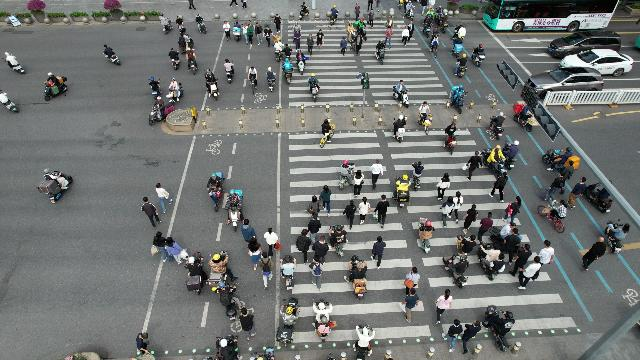non-motor-vehicle: (482, 298, 516, 354), (308, 299, 337, 347), (477, 240, 508, 284), (346, 253, 374, 301), (351, 316, 381, 360), (278, 296, 302, 348), (40, 170, 76, 202), (540, 199, 572, 233), (544, 147, 580, 177), (210, 282, 240, 318), (440, 252, 468, 290), (183, 252, 207, 296), (208, 252, 240, 284), (280, 253, 302, 294), (590, 180, 616, 212), (414, 100, 436, 136), (44, 72, 70, 102), (514, 102, 538, 134), (608, 221, 632, 249), (483, 147, 507, 175), (501, 142, 523, 172), (418, 218, 436, 253), (490, 220, 524, 238), (447, 85, 467, 114), (338, 155, 354, 191), (100, 43, 124, 67), (166, 76, 186, 103), (217, 334, 241, 356), (333, 224, 349, 256), (392, 81, 410, 109), (176, 31, 197, 53), (489, 115, 507, 140), (295, 48, 311, 76), (456, 235, 476, 257), (147, 102, 165, 126), (353, 18, 371, 42), (391, 116, 407, 142), (320, 118, 336, 144), (394, 175, 410, 201), (264, 66, 280, 92), (447, 32, 463, 57), (155, 14, 173, 36), (194, 12, 212, 34), (247, 66, 260, 96), (136, 332, 152, 356), (208, 172, 226, 192), (227, 190, 245, 210), (272, 35, 284, 62), (456, 54, 469, 78), (308, 75, 320, 99), (412, 160, 426, 180), (222, 61, 234, 84), (474, 45, 486, 67), (377, 41, 388, 65), (298, 1, 312, 19), (404, 0, 416, 20), (232, 20, 242, 44), (456, 23, 468, 41), (208, 82, 220, 99), (448, 136, 458, 156), (284, 64, 294, 84), (440, 14, 450, 34), (445, 125, 459, 139), (327, 7, 337, 25), (434, 5, 444, 23), (288, 22, 308, 31), (148, 78, 160, 92), (430, 34, 440, 50), (346, 22, 354, 42), (266, 346, 276, 360), (426, 8, 434, 25), (426, 16, 432, 36), (188, 64, 198, 74)
person: (584, 229, 608, 280), (518, 254, 542, 292), (235, 302, 261, 336), (138, 194, 162, 230), (147, 229, 169, 263), (464, 316, 482, 356), (262, 227, 282, 260), (320, 183, 338, 217), (374, 195, 391, 231), (444, 317, 461, 351), (463, 154, 485, 180), (462, 202, 480, 233), (371, 236, 389, 266), (296, 226, 310, 264), (435, 289, 455, 315), (492, 172, 508, 204), (438, 195, 454, 227), (403, 292, 421, 320), (573, 175, 587, 211), (166, 241, 188, 263), (404, 268, 424, 292), (478, 210, 492, 242), (358, 197, 372, 228), (314, 235, 328, 265), (437, 173, 453, 199), (452, 190, 464, 224), (506, 200, 524, 222), (248, 246, 266, 268), (560, 158, 578, 180), (506, 229, 520, 257), (516, 244, 532, 268), (155, 184, 173, 204), (240, 220, 258, 240), (540, 242, 556, 264), (344, 204, 358, 228), (370, 159, 388, 177), (548, 178, 564, 198), (307, 196, 319, 222), (352, 172, 366, 194), (383, 26, 395, 50), (352, 34, 364, 56), (253, 21, 263, 47), (308, 219, 322, 237), (263, 268, 275, 286), (306, 32, 314, 58), (272, 14, 284, 30), (310, 260, 322, 276), (247, 25, 255, 48), (400, 28, 410, 46), (168, 48, 178, 64), (368, 10, 376, 30), (294, 30, 302, 50), (339, 38, 348, 54), (316, 31, 326, 44), (266, 28, 274, 44), (386, 16, 396, 28), (243, 23, 249, 43), (222, 22, 230, 36), (354, 4, 362, 16), (245, 20, 253, 24)
